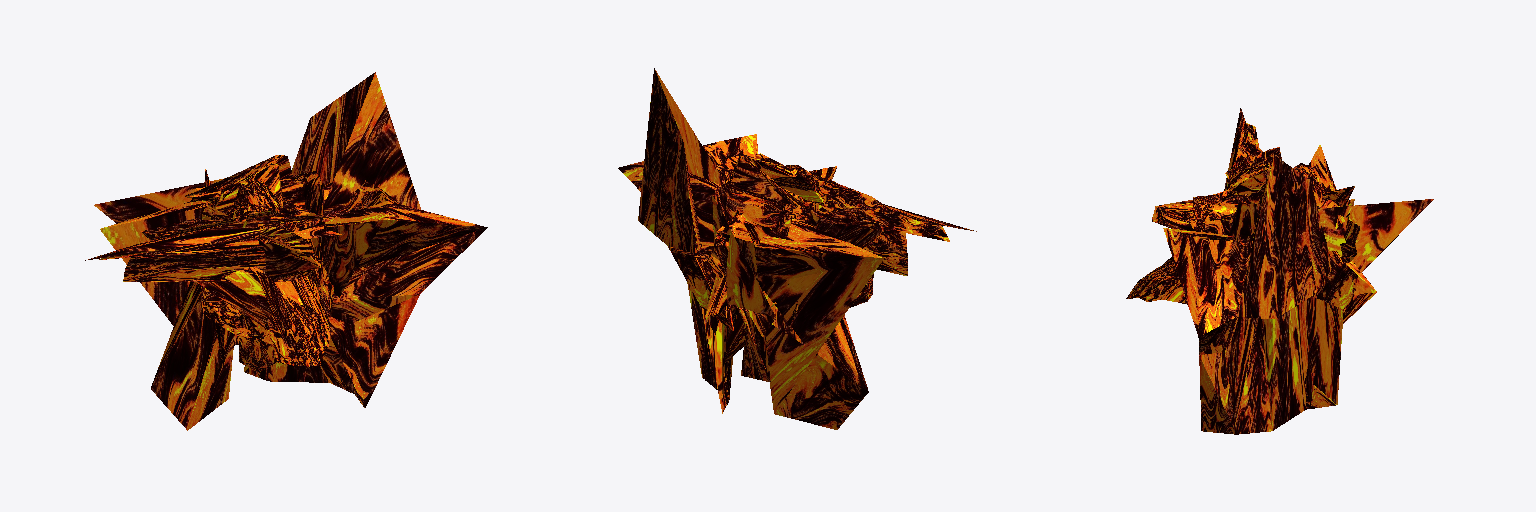
3 renders of one model, left to right at view 1: azimuth 30°, elevation 25°; view 2: azimuth 150°, elevation 25°; view 3: azimuth 270°, elevation 25°, orthographic.
Visible parts, largest first — view 1: Sphere_Volcano_Eruption; view 2: Sphere_Volcano_Eruption; view 3: Sphere_Volcano_Eruption.
Boxes of the visible parts, x1=… form: Sphere_Volcano_Eruption: x1=85, y1=72, x2=487, y2=430; Sphere_Volcano_Eruption: x1=618, y1=68, x2=976, y2=429; Sphere_Volcano_Eruption: x1=1126, y1=108, x2=1433, y2=434.
Bounding box in the file's own units: 1.46 × 1.15 × 1.02.
1 materials, 1 textured.